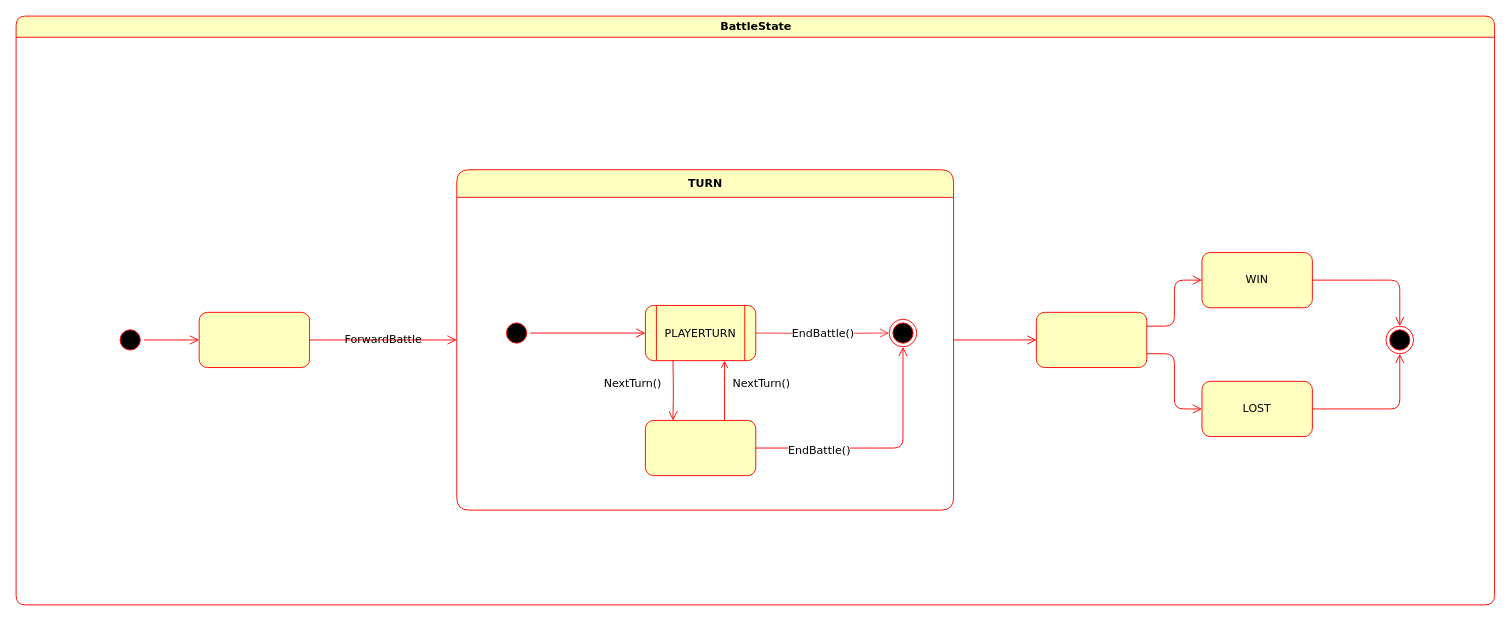
Image size: 1511x621. Some labels were removed from this diagram. The box of each missing label's shape, as (x1, y1, x2, y2) in pixels:
END: (1035, 311, 1147, 368)
ENEMYTURN: (644, 420, 756, 476)
START: (198, 311, 310, 368)
